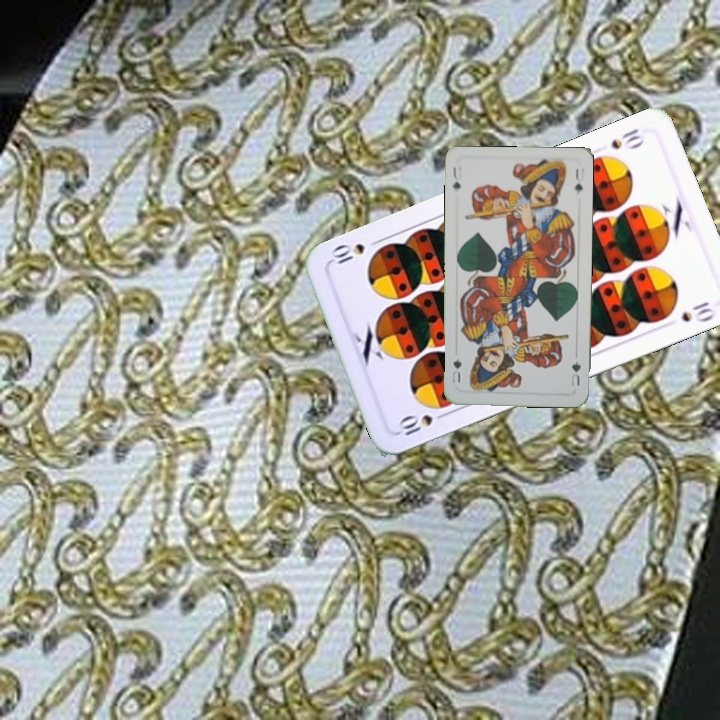GU: (567, 357, 583, 388), (449, 161, 463, 192)
S10: (394, 408, 451, 439), (607, 124, 647, 152)
